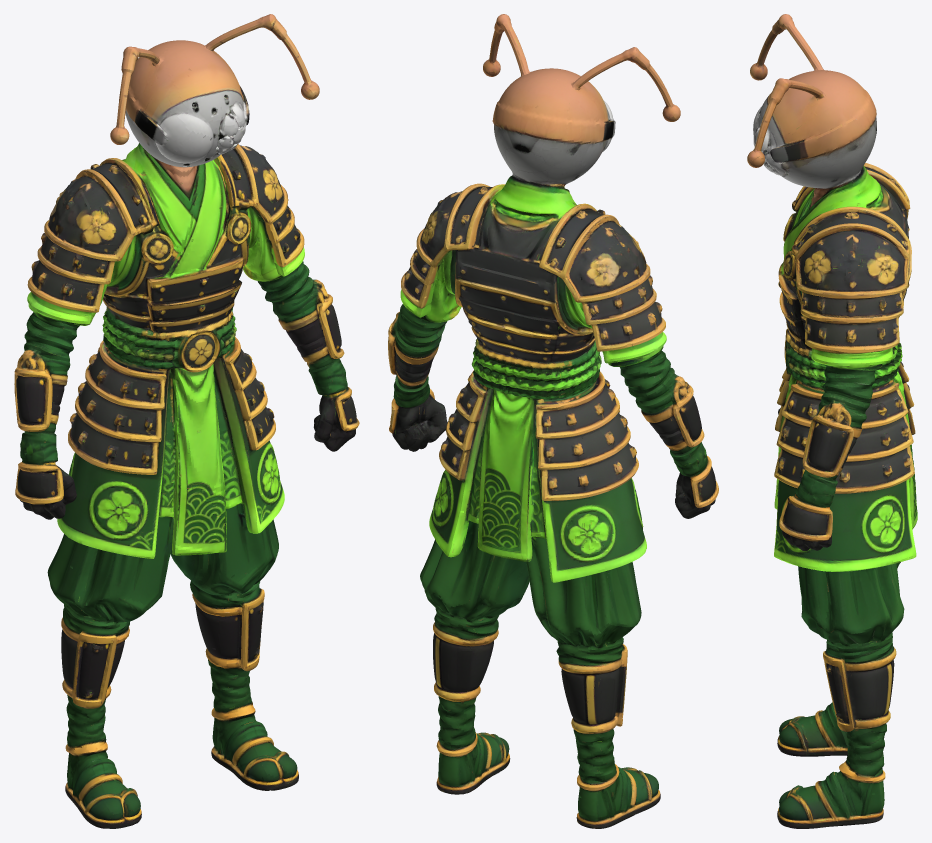
File: rebel_4998_static_source_shogun_v5c_g3.glb
3 renders of one model, left to right at view 1: azimuth 30°, elevation 25°; view 2: azimuth 150°, elevation 25°; view 3: azimuth 270°, elevation 25°, orthographic. The views are drawn at different scales.
Visible parts, largest first — view 1: Mesh_0; view 2: Mesh_0; view 3: Mesh_0.
Part boxes in pixels (box(x1,y1,x2,y2)): Mesh_0: box(14, 14, 359, 828); Mesh_0: box(388, 14, 718, 828); Mesh_0: box(747, 14, 917, 828).
Bounding box in the file's own units: 0.8546 × 1.9 × 0.3993.
1 material, 1 textured.
